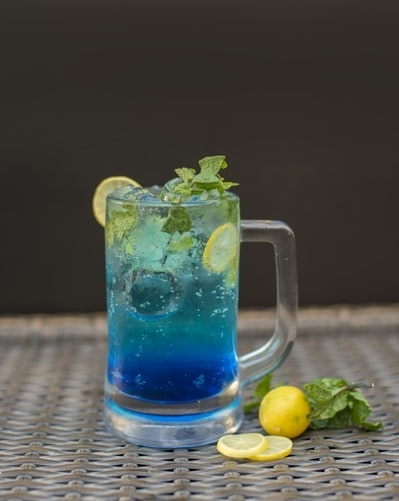whiskey: (106, 186, 239, 423)
